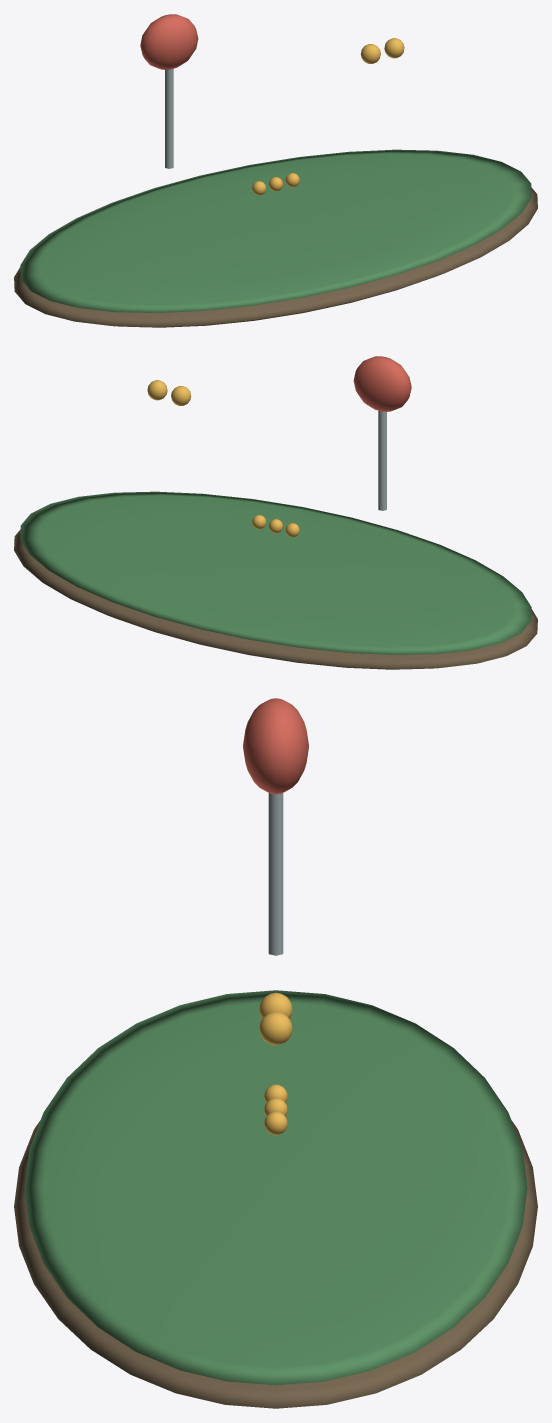
The model's file is complete-first-some-here.glb.
The picture shows the model from 3 angles, top to bottom: view 1: azimuth 30°, elevation 25°; view 2: azimuth 150°, elevation 25°; view 3: azimuth 270°, elevation 25°; orthographic projection. The views are drawn at different scales.
Visible parts, largest first — view 1: complete-first-some-here_surface_01, complete-first-some-here_surface_00, complete-first-some-here_surface_03, complete-first-some-here_surface_04, complete-first-some-here_surface_02; view 2: complete-first-some-here_surface_01, complete-first-some-here_surface_00, complete-first-some-here_surface_03, complete-first-some-here_surface_04, complete-first-some-here_surface_02; view 3: complete-first-some-here_surface_01, complete-first-some-here_surface_00, complete-first-some-here_surface_03, complete-first-some-here_surface_02, complete-first-some-here_surface_04.
Boxes of the visible parts, left/top/right/bottom form: complete-first-some-here_surface_01: left=20, top=149, right=531, bottom=312; complete-first-some-here_surface_00: left=14, top=187, right=537, bottom=327; complete-first-some-here_surface_03: left=140, top=14, right=198, bottom=69; complete-first-some-here_surface_04: left=252, top=38, right=404, bottom=195; complete-first-some-here_surface_02: left=165, top=69, right=173, bottom=168; complete-first-some-here_surface_01: left=20, top=491, right=531, bottom=654; complete-first-some-here_surface_00: left=14, top=529, right=537, bottom=669; complete-first-some-here_surface_03: left=353, top=356, right=411, bottom=411; complete-first-some-here_surface_04: left=147, top=380, right=299, bottom=537; complete-first-some-here_surface_02: left=378, top=411, right=386, bottom=510; complete-first-some-here_surface_01: left=24, top=990, right=527, bottom=1385; complete-first-some-here_surface_00: left=14, top=1120, right=537, bottom=1408; complete-first-some-here_surface_03: left=243, top=698, right=308, bottom=794; complete-first-some-here_surface_02: left=268, top=793, right=283, bottom=955; complete-first-some-here_surface_04: left=259, top=992, right=292, bottom=1135.
Size of the model in its own units: 4.56 by 2.33 by 2.5.
